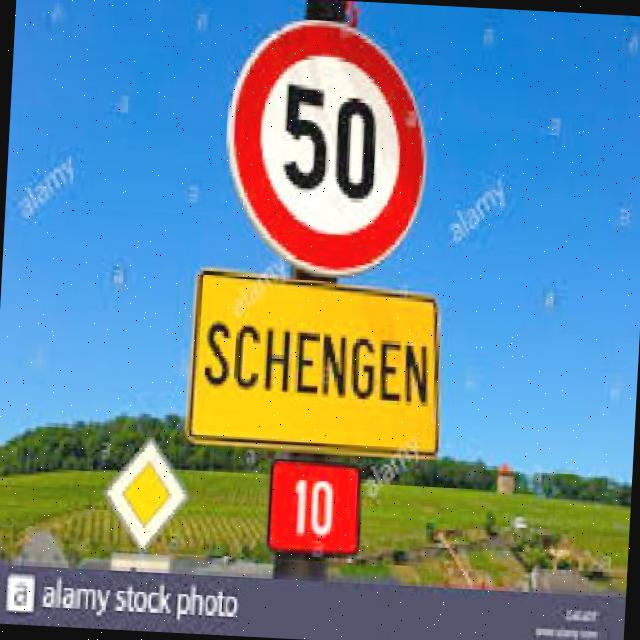Ograniczenie predkosci do 50: (225, 18, 433, 276)
